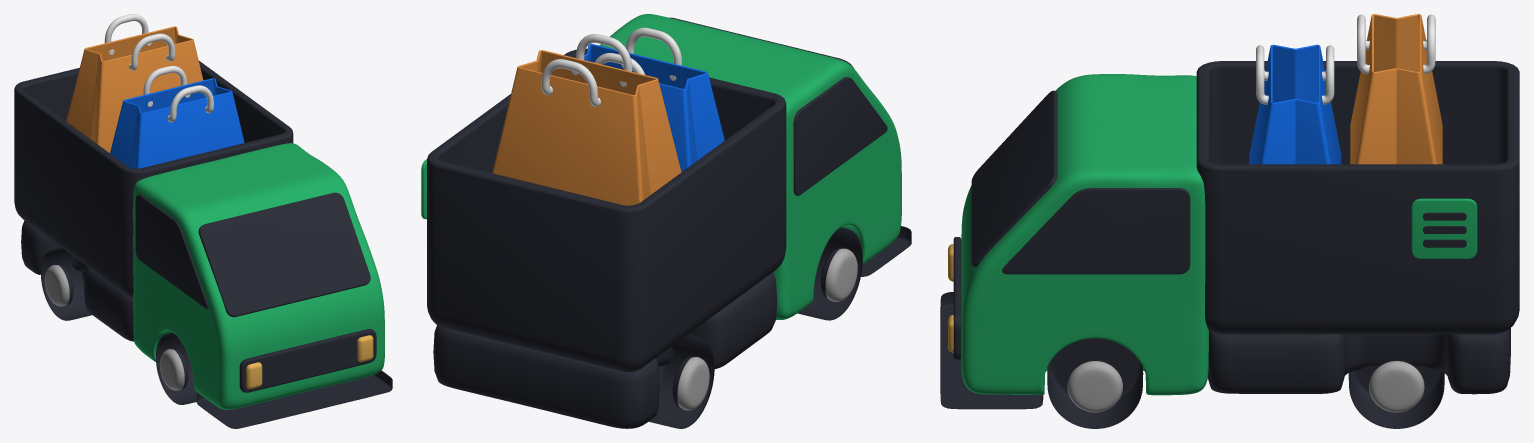
File: drop-shipping-animated-3d-icon-457747083481.glb
3 renders of one model, left to right at view 1: azimuth 30°, elevation 25°; view 2: azimuth 150°, elevation 25°; view 3: azimuth 270°, elevation 25°, orthographic. The views are drawn at different scales.
Parts seen in each view (by area): view 1: Front Base, Box, Windows, Bag.001, Bag.002, Chasis, Bumper, Wheel.003, Wheel.002, Handle.005, Handle.004, Rim.003 (+2 smaller); view 2: Box, Front Base, Bag.002, Chasis, Windows, Bag.001, Wheel.003, Wheel.002, Handle.005, Rim.003, Rim.001, Handle.004; view 3: Box, Front Base, Windows, Chasis, Bag.002, Bag.001, Wheel, Code, Wheel.001, Rim, Rim.002, Handle.004 (+3 smaller).
Boxes of the visible parts, x1,y1,x2,y2 form: Front Base: (133,143,384,409); Box: (14,60,293,297); Windows: (135,192,370,317); Bag.001: (110,78,244,168); Bag.002: (66,26,203,152); Chasis: (21,220,392,428); Bumper: (239,329,376,392); Wheel.003: (41,247,91,320); Wheel.002: (156,332,197,404); Handle.005: (104,14,175,70); Handle.004: (143,65,213,122); Rim.003: (159,349,184,390); Box: (427,48,786,372); Front Base: (599,14,901,319); Bag.002: (492,50,681,205); Chasis: (433,226,911,428); Windows: (669,17,887,195); Bag.001: (575,43,724,171); Wheel.003: (649,334,714,428); Wheel.002: (797,227,862,320); Handle.005: (541,34,632,106); Rim.003: (825,248,857,301); Rim.001: (677,357,709,410); Handle.004: (594,27,681,80); Box: (1196,61,1519,334); Front Base: (961,74,1208,395); Windows: (971,90,1190,274); Chasis: (940,292,1510,409); Bag.002: (1350,14,1442,164); Bag.001: (1249,44,1341,164); Wheel: (1047,338,1143,428); Code: (1411,198,1477,258); Wheel.001: (1348,359,1444,428); Rim: (1067,361,1122,412); Rim.002: (1369,361,1424,412); Handle.004: (1256,45,1334,104).
Size of what is drawn, in the model's own units: 1.29 by 1.81 by 2.66.
